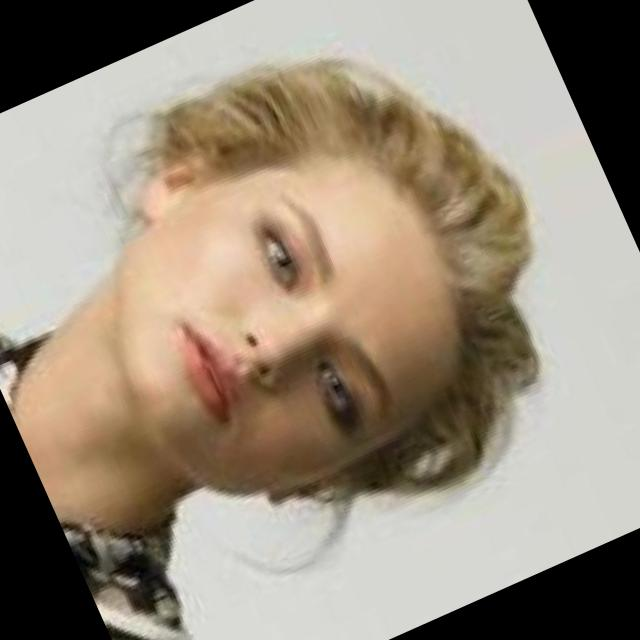bareface: (74, 95, 508, 535)
